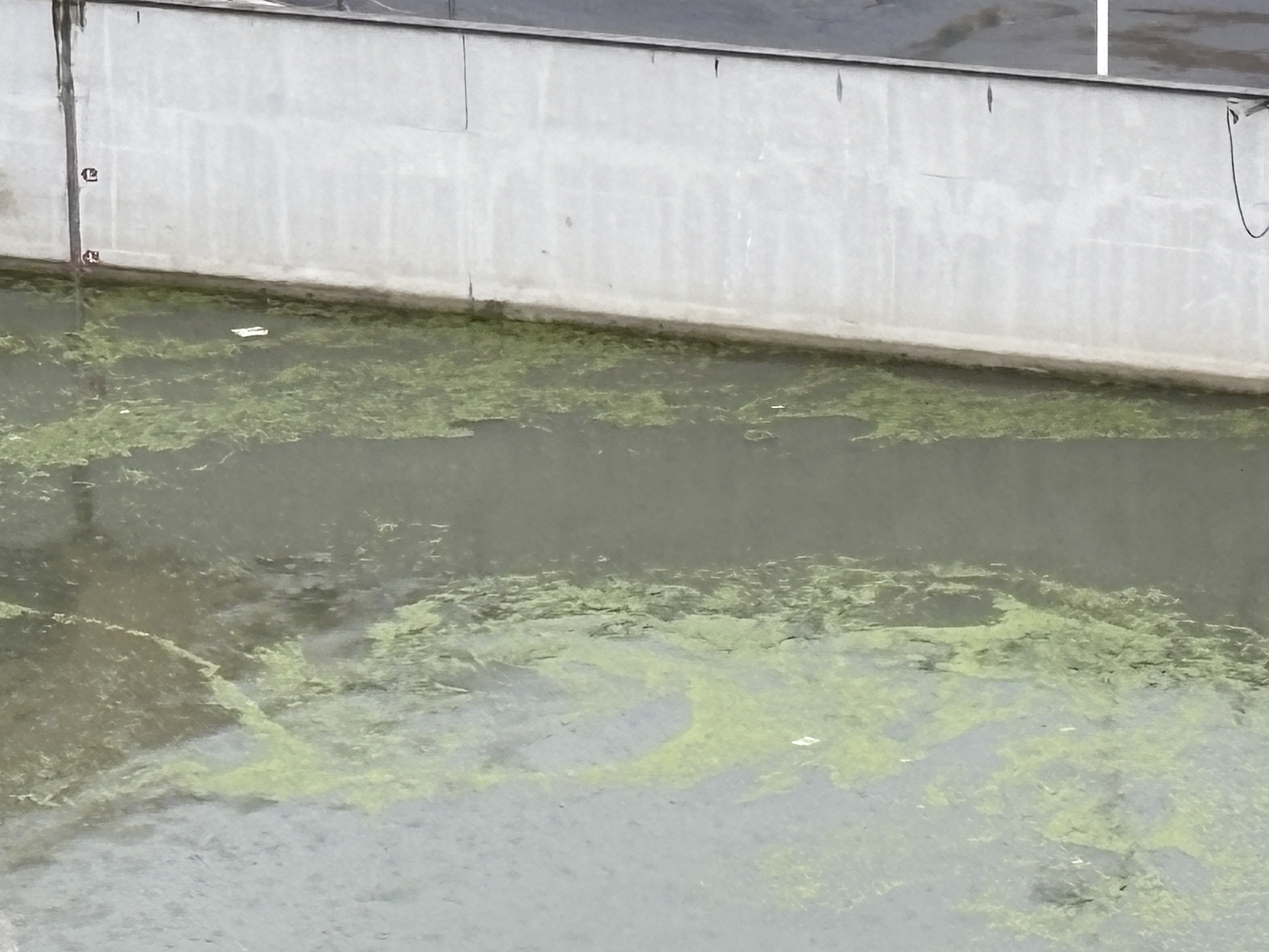Other: (1012, 732, 1269, 903), (107, 368, 532, 440), (486, 575, 807, 664), (909, 609, 1207, 696), (256, 642, 416, 798), (865, 370, 1213, 440), (686, 677, 767, 774), (827, 682, 909, 775)
Plastic wastes: (230, 320, 271, 343), (791, 728, 820, 747)
